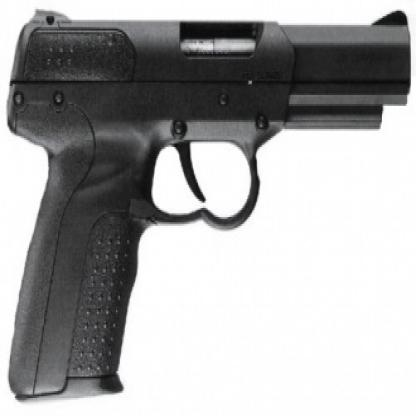Guns: (4, 4, 415, 407)
